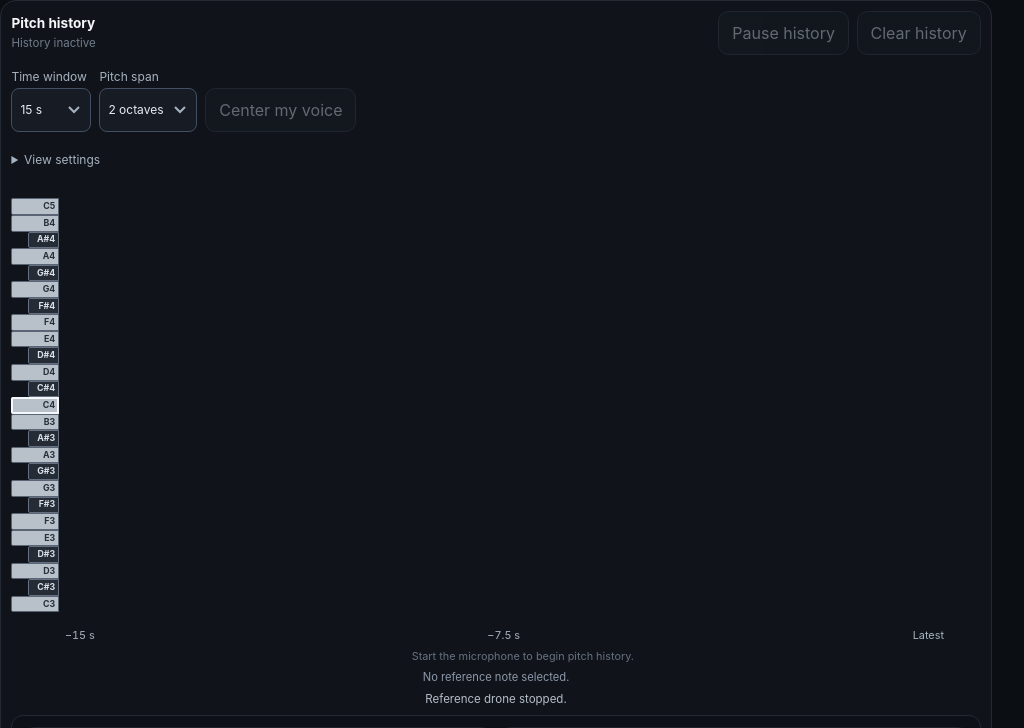
Test: PitchMonitor history diagnostics › creates and starts audio exactly once on completed activation, not focus or press
Press ArrowUp in the button named "Reference note C4, 261.6 hertz", box [11,397,59,414]
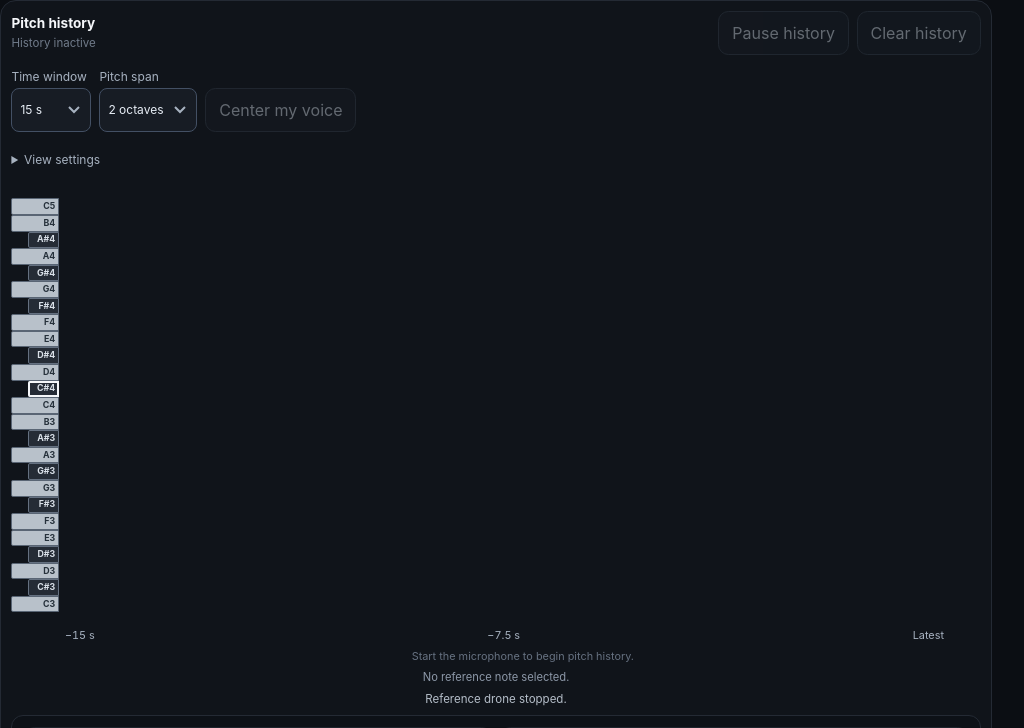
Press the mouse on the button named "Reference note C4, 261.6 hertz" at (35, 405), box [11,397,59,414]
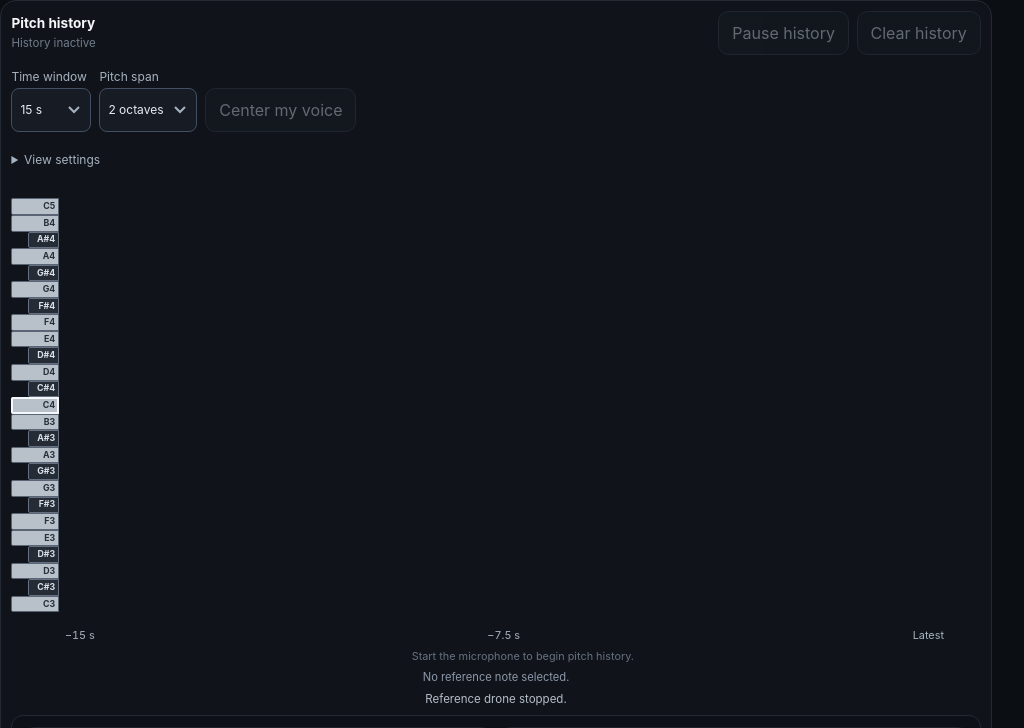
Click the button named "Reference note C4, 261.6 hertz" at (35, 405), box [11,397,59,414]
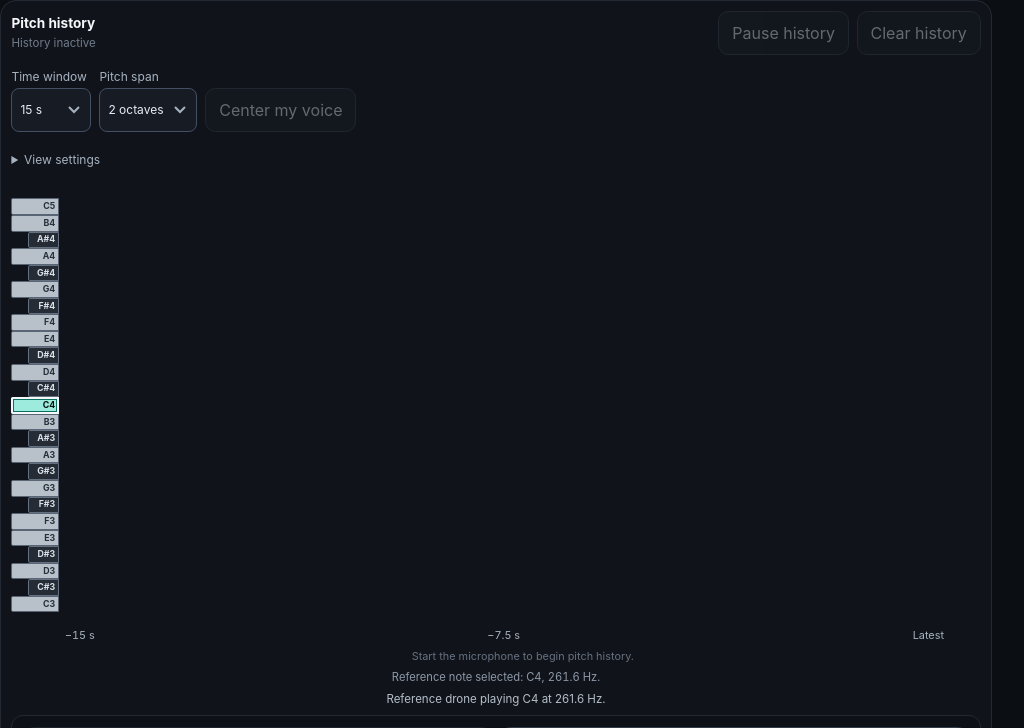
Check: the message named "Reference drone status" shows "playing C4", box [386,692,606,706]
